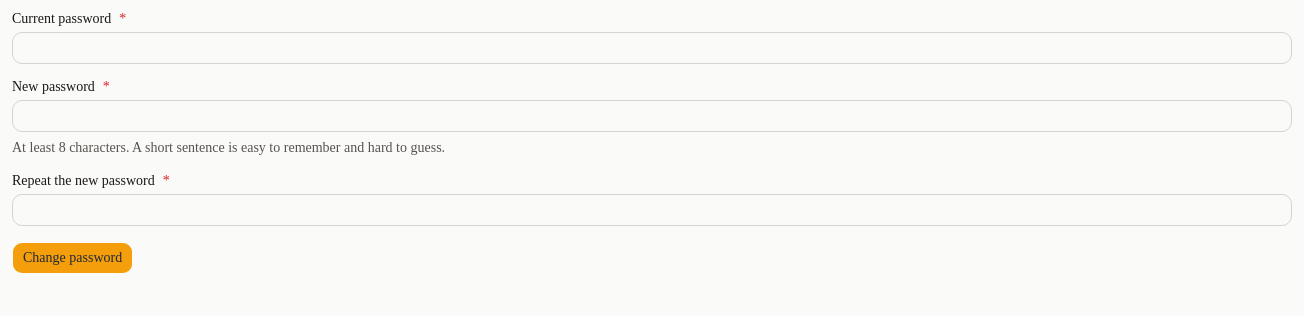
ChangePasswordForm › catches two different new passwords before sending
In the password field labelled "Current password *": (652, 48) [12,32,1292,64], type "old-password-1"
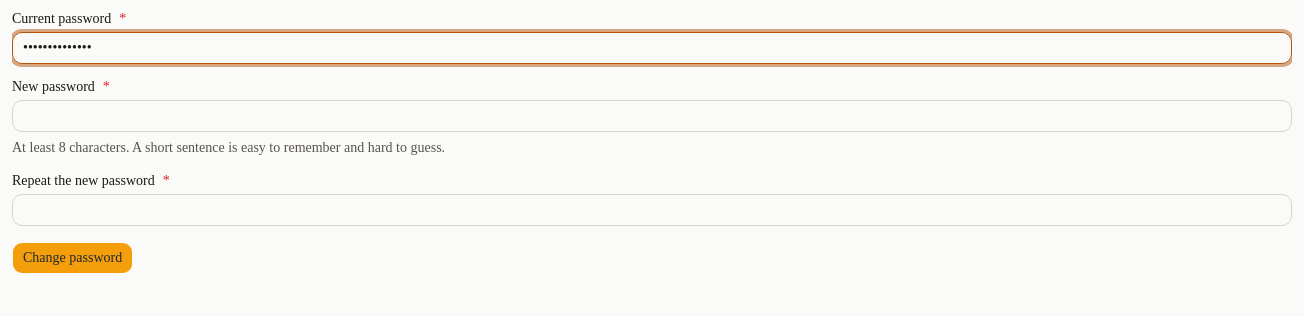
In the password field labelled "New password *": (652, 116) [12,100,1292,132], type "a new reading list"
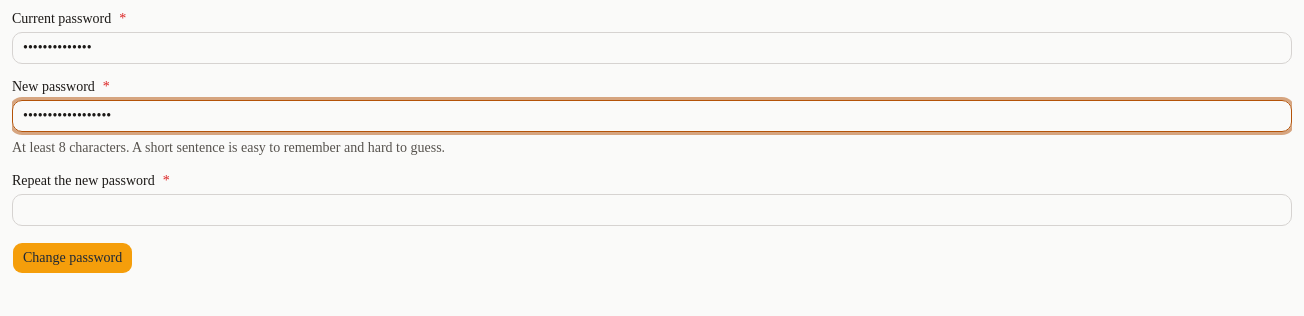
In the password field labelled "Repeat the new password *": (652, 210) [12,194,1292,226], type "a new reading lust"
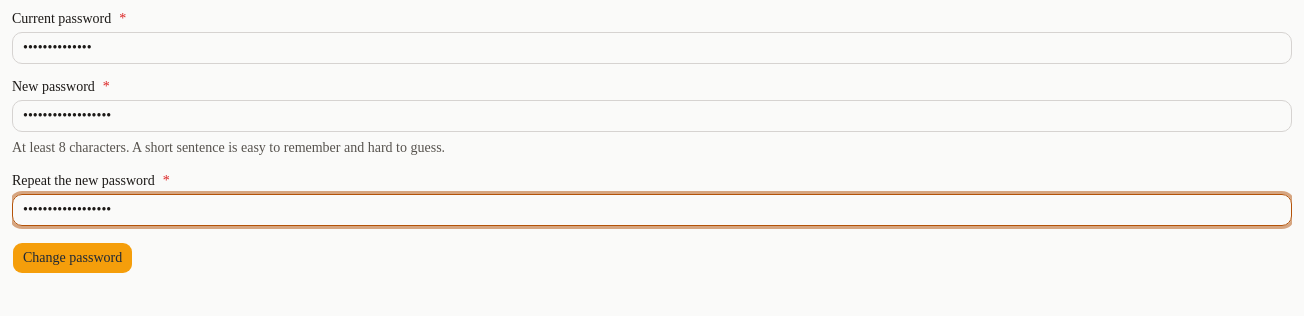
Click the button "Change password": (73, 258) [12,242,133,274]
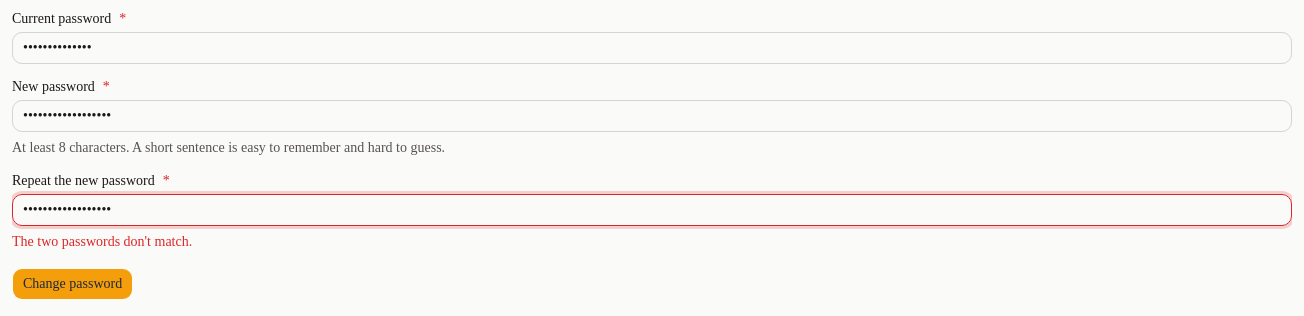
Check: the text "The two passwords don't match." is shown, box [12,234,192,249]
